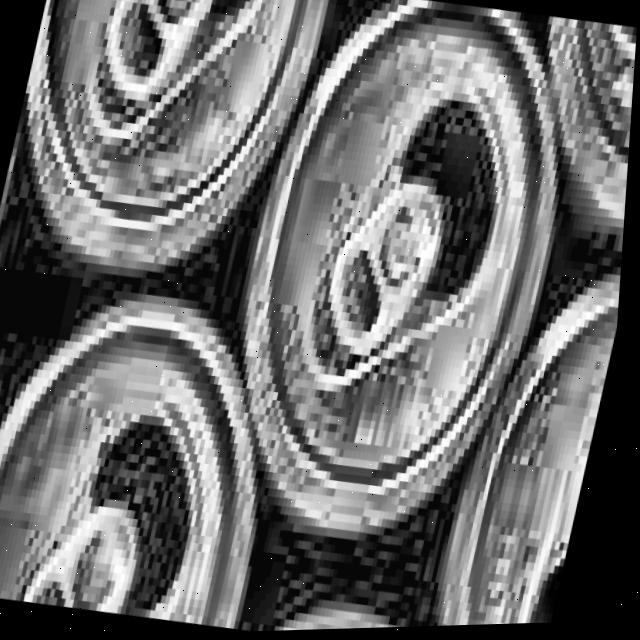metal: (187, 0, 608, 575), (0, 278, 321, 639), (0, 0, 335, 310), (429, 230, 627, 629), (487, 16, 638, 276)
